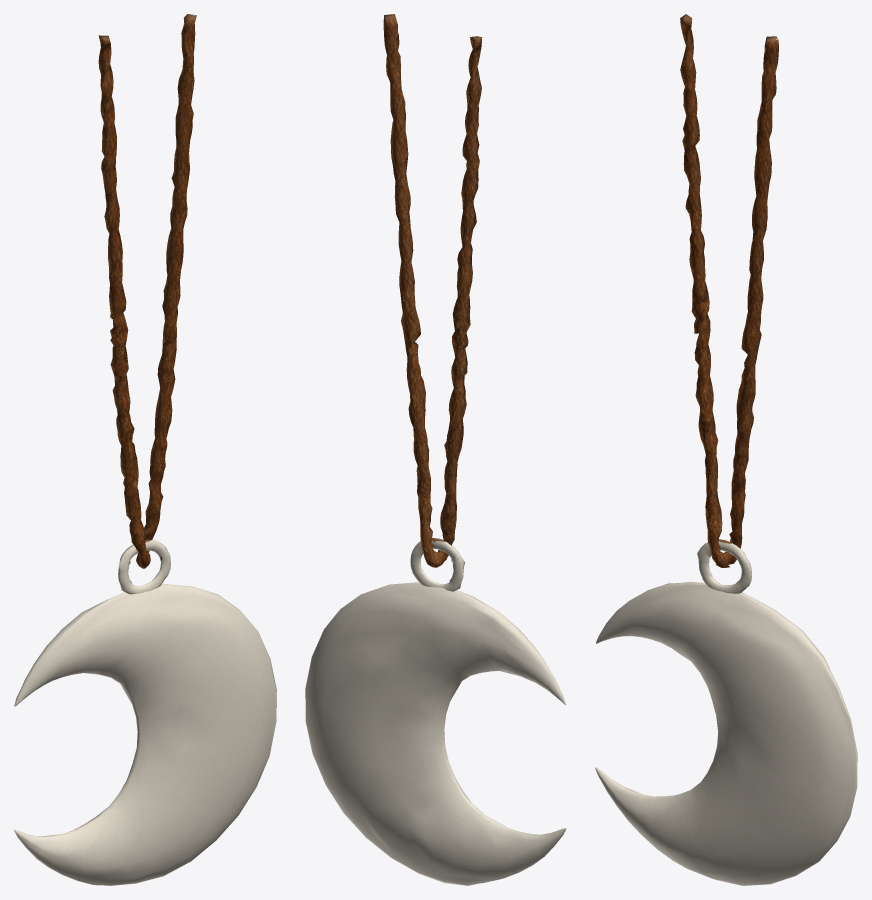
Rendered from pale-moon_refine.glb.
3 renders of one model, left to right at view 1: azimuth 30°, elevation 25°; view 2: azimuth 150°, elevation 25°; view 3: azimuth 330°, elevation 25°, orthographic.
Size of the model in its own units: 0.3047 by 0.9507 by 0.0542.
Materials: 1 (1 with a texture image).
